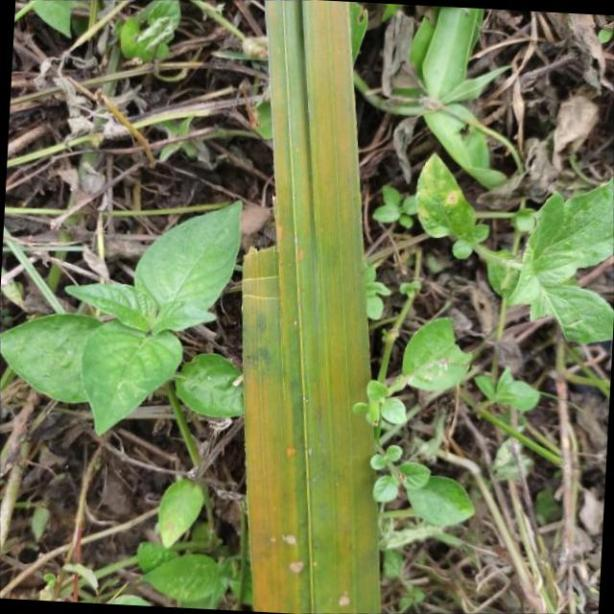Megnesium: (238, 0, 384, 614)
